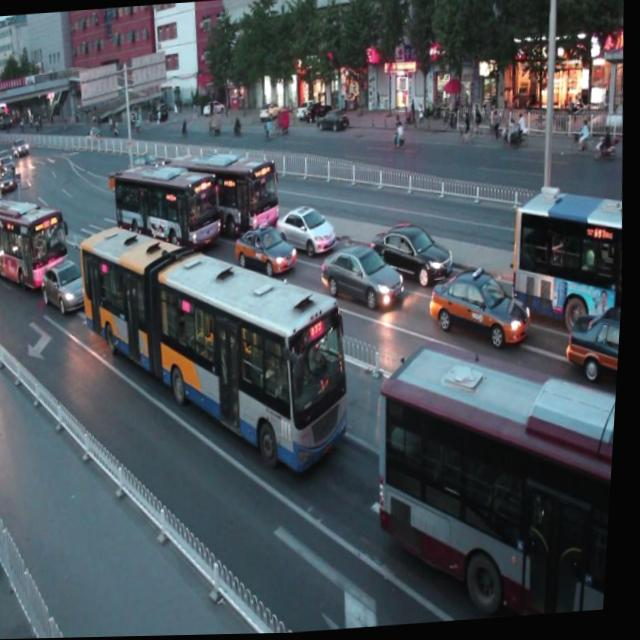car: (428, 270, 537, 368), (318, 243, 406, 323), (372, 224, 459, 298), (567, 309, 625, 387), (233, 222, 301, 287), (274, 202, 339, 267), (44, 257, 94, 315)
van: (69, 206, 365, 494), (370, 332, 624, 628), (507, 189, 631, 324), (110, 155, 228, 268), (167, 144, 286, 249), (0, 188, 73, 285)
